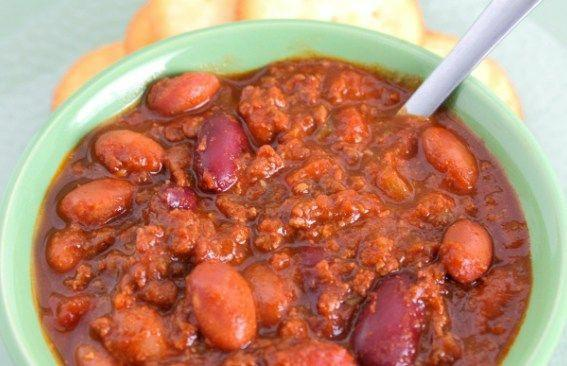RajmaCurry: (36, 59, 534, 366)
